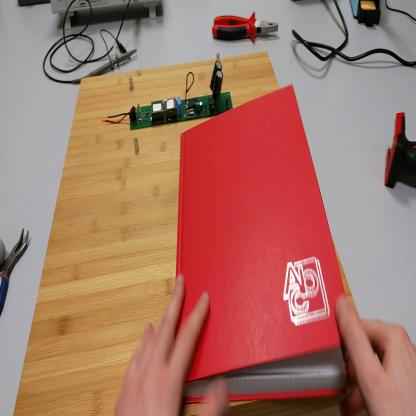electric screwdriver: (386, 106, 416, 196)
hand: (115, 272, 228, 416), (335, 297, 416, 416)
high voltage board: (106, 58, 235, 127)
oscilloscope: (51, 3, 164, 29)
oscilloscope probe tip: (87, 45, 138, 81)
pliers: (213, 9, 282, 51), (2, 227, 31, 315)
register: (176, 83, 349, 405)
socket: (20, 3, 51, 8)
welder base: (351, 2, 384, 31)
working area: (13, 53, 364, 416)
